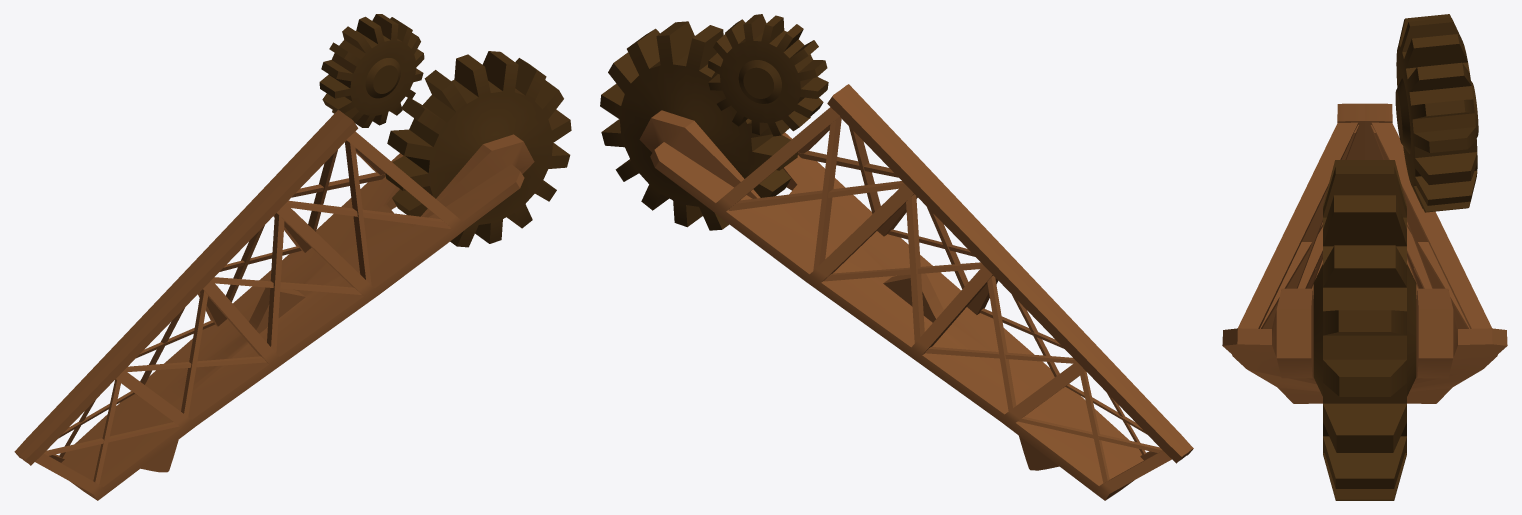
Rendered from Rechts Achter Onderbeen.fbx.
The picture shows the model from 3 angles, left to right: view 1: azimuth 30°, elevation 25°; view 2: azimuth 150°, elevation 25°; view 3: azimuth 270°, elevation 25°; orthographic projection. The views are drawn at different scales.
Visible parts, largest first — view 1: Tandwiel.002; view 2: Tandwiel.002; view 3: Tandwiel.002.
Boxes of the visible parts, <box> form: Tandwiel.002: <box>14,14,571,500</box>; Tandwiel.002: <box>600,14,1193,500</box>; Tandwiel.002: <box>1222,14,1507,500</box>.
Bounding box in the file's own units: 1203 × 791 × 316.
